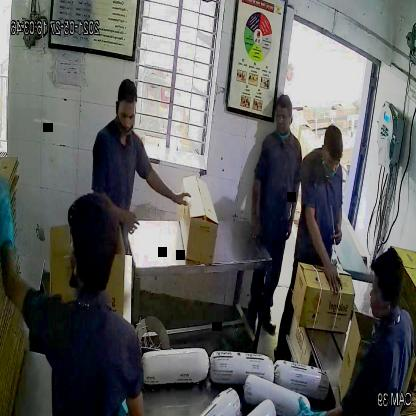no_goggles: (317, 152, 345, 172), (114, 103, 138, 125)
